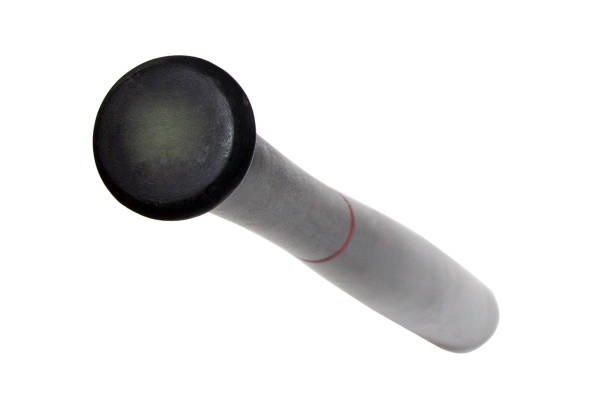bita: (95, 70, 497, 353)
